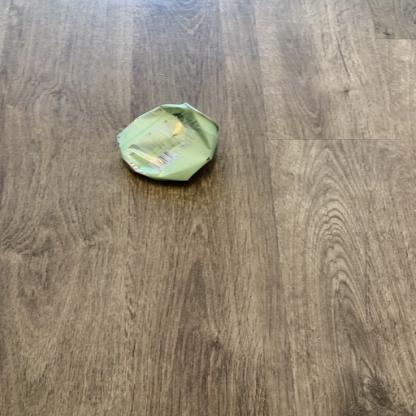trash: (115, 101, 232, 185)
